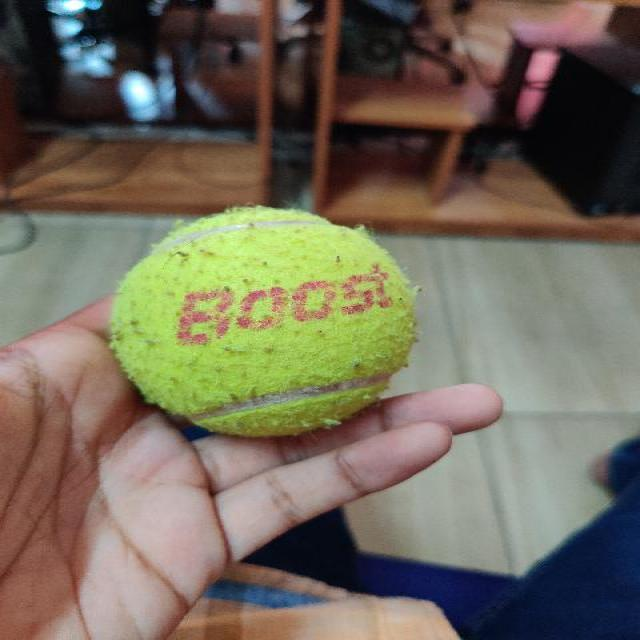tennis-ball: (109, 207, 415, 436)
